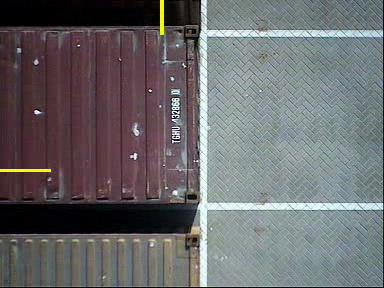groundmarker_2: (107, 185, 272, 288)
